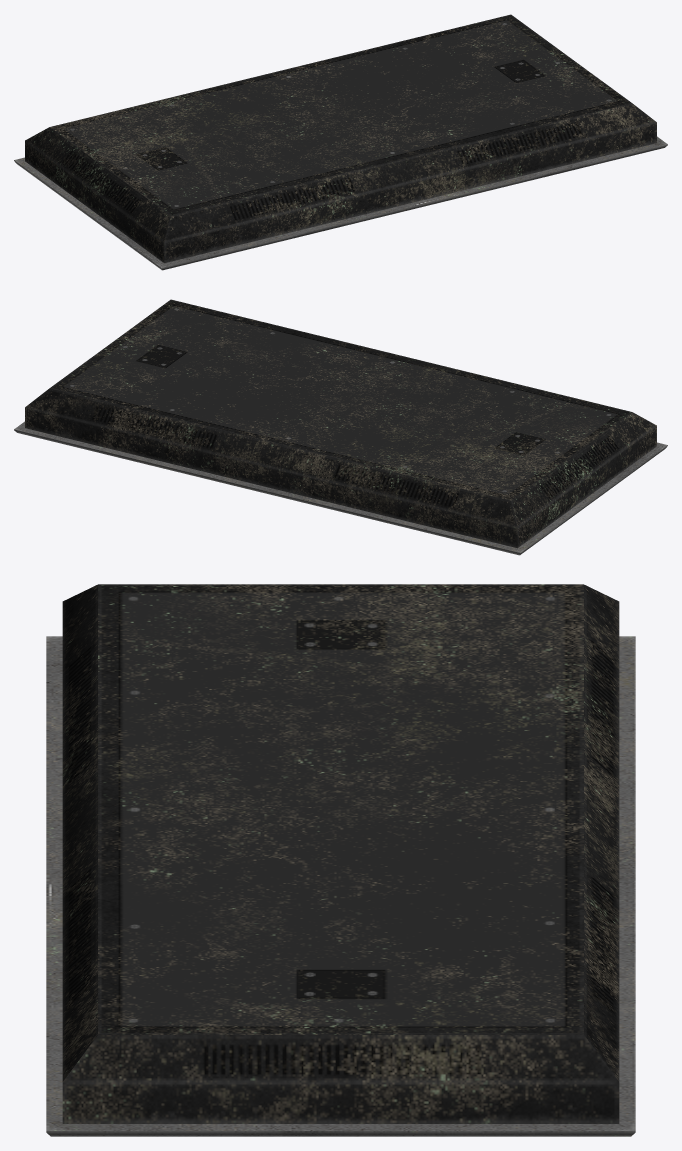
The model's file is LampFluoBuiltinG.fbx.
3 views of the same model, one above another, from view 1: azimuth 30°, elevation 25°; view 2: azimuth 150°, elevation 25°; view 3: azimuth 270°, elevation 25° (orthographic). The views are drawn at different scales.
Parts seen in each view (by area): view 1: LampFluoBuiltinG; view 2: LampFluoBuiltinG; view 3: LampFluoBuiltinG.
Boxes of the visible parts, x1,y1,x2,y2 form: LampFluoBuiltinG: (14,14,667,270); LampFluoBuiltinG: (14,299,667,555); LampFluoBuiltinG: (46,584,635,1136).
Bounding box in the file's own units: 135 × 10.42 × 68.12.
